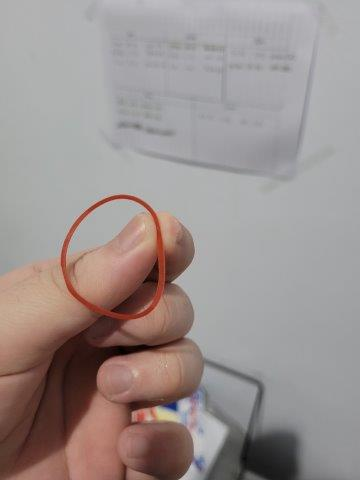karet: (62, 194, 167, 317)
